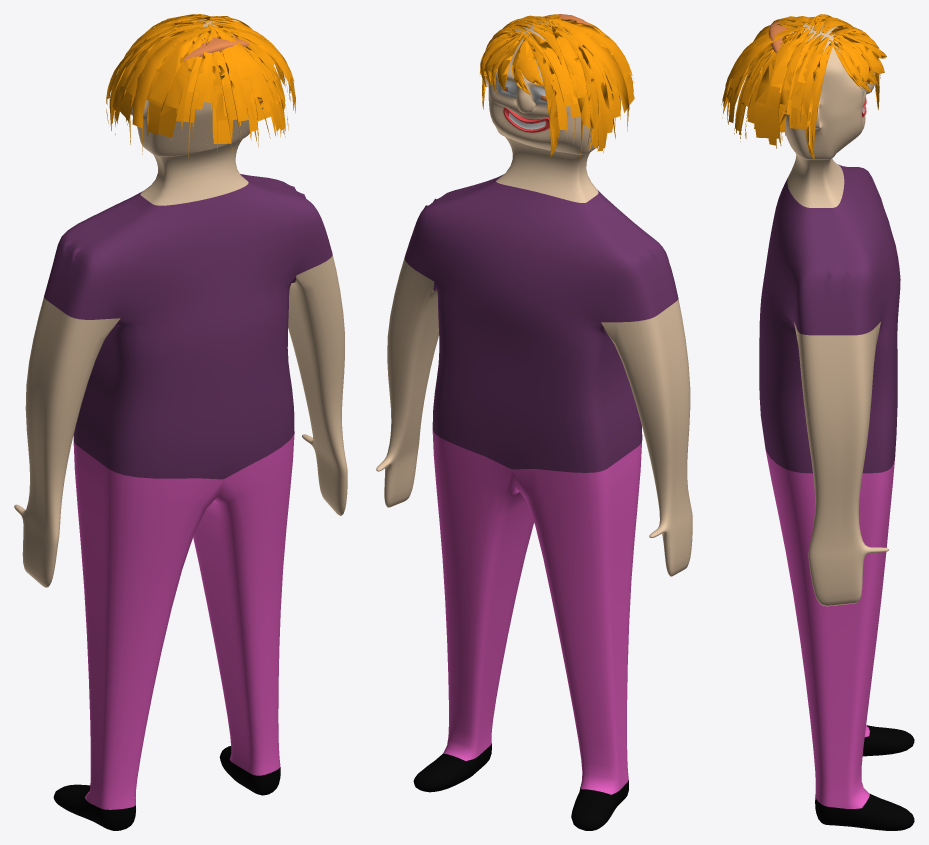
File: Kind_2_neu.fbx
3 renders of one model, left to right at view 1: azimuth 30°, elevation 25°; view 2: azimuth 150°, elevation 25°; view 3: azimuth 270°, elevation 25°, orthographic. The views are drawn at different scales.
Visible parts, largest first — view 1: Cube, NurbsPath.001; view 2: Cube, NurbsPath.001; view 3: Cube, NurbsPath.001.
Boxes of the visible parts, x1,y1,x2,y2 form: Cube: (14, 20, 347, 830); NurbsPath.001: (106, 14, 295, 160); Cube: (376, 14, 692, 830); NurbsPath.001: (480, 14, 634, 159); Cube: (759, 21, 914, 830); NurbsPath.001: (721, 14, 886, 158).
Bounding box in the file's own units: 36.71 × 91.84 × 20.95.
